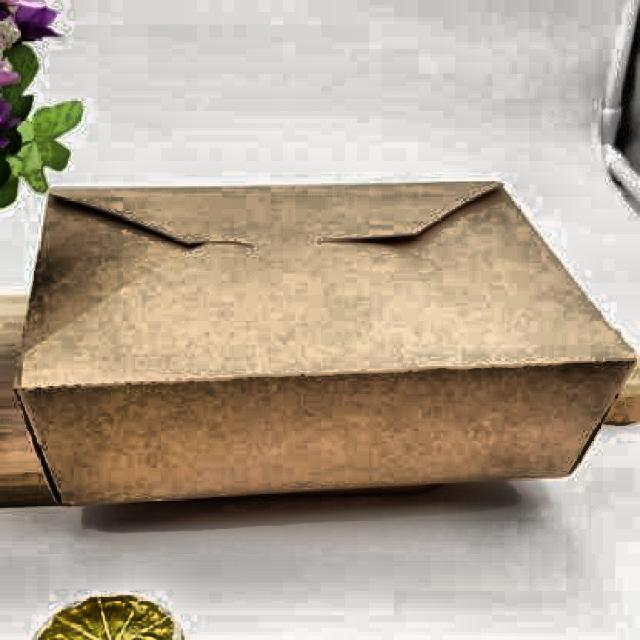Cardbox: (11, 169, 640, 511)
